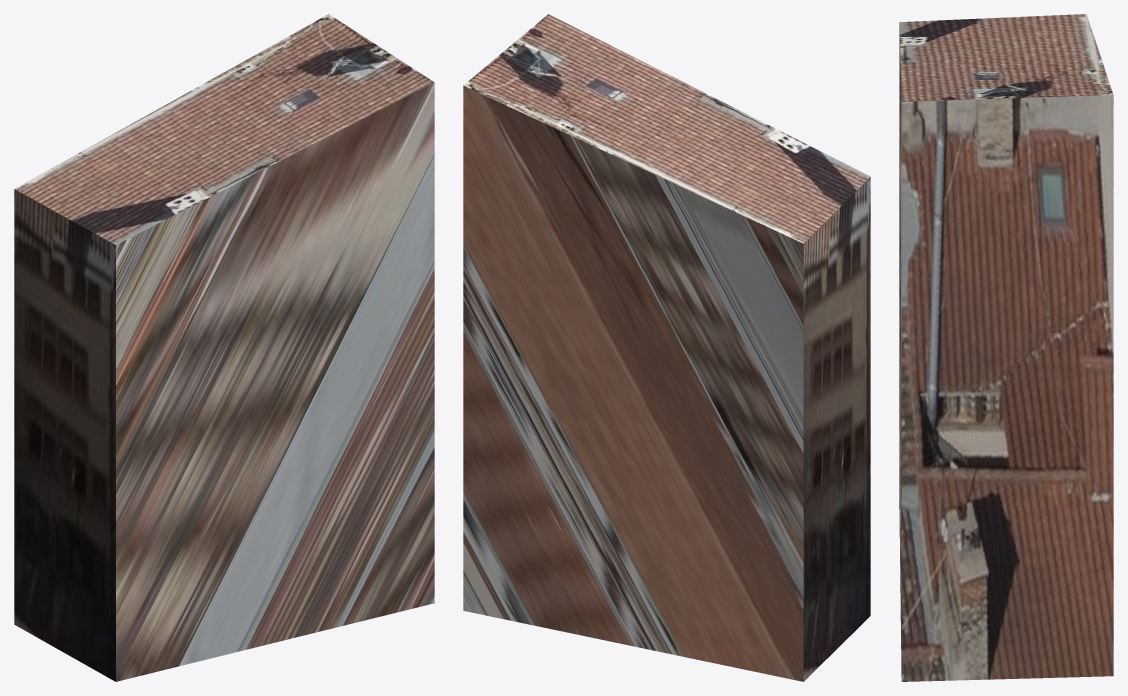
The picture shows the model from 3 angles, left to right: view 1: azimuth 30°, elevation 25°; view 2: azimuth 150°, elevation 25°; view 3: azimuth 270°, elevation 25°; orthographic projection. The views are drawn at different scales.
Parts seen in each view (by area): view 1: Z_UP; view 2: Z_UP; view 3: Z_UP.
Boxes of the visible parts, x1=… form: Z_UP: x1=14, y1=14, x2=434, y2=681; Z_UP: x1=463, y1=14, x2=870, y2=681; Z_UP: x1=899, y1=14, x2=1113, y2=681.
Size of the model in its own units: 13.5 by 19.99 by 6.67.
2 materials, 1 textured.
